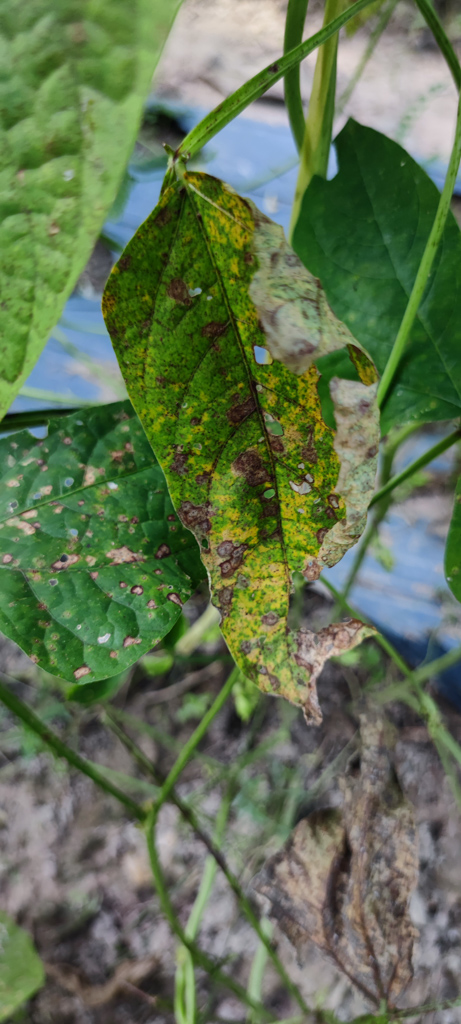Rust: (98, 163, 402, 723), (7, 405, 194, 699)
